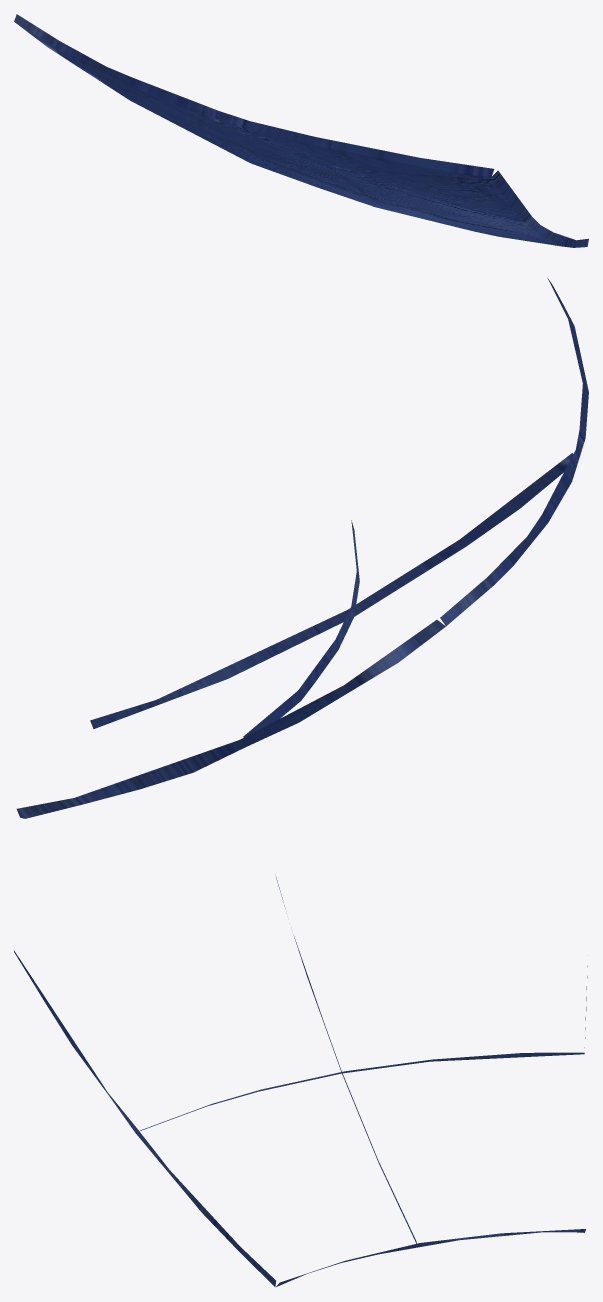
3 renders of one model, top to bottom at view 1: azimuth 30°, elevation 25°; view 2: azimuth 150°, elevation 25°; view 3: azimuth 270°, elevation 25°, orthographic. The views are drawn at different scales.
Bounding box in the file's own units: 2826900 × 1436803 × 3223577.
Materials: 1 (1 with a texture image).
